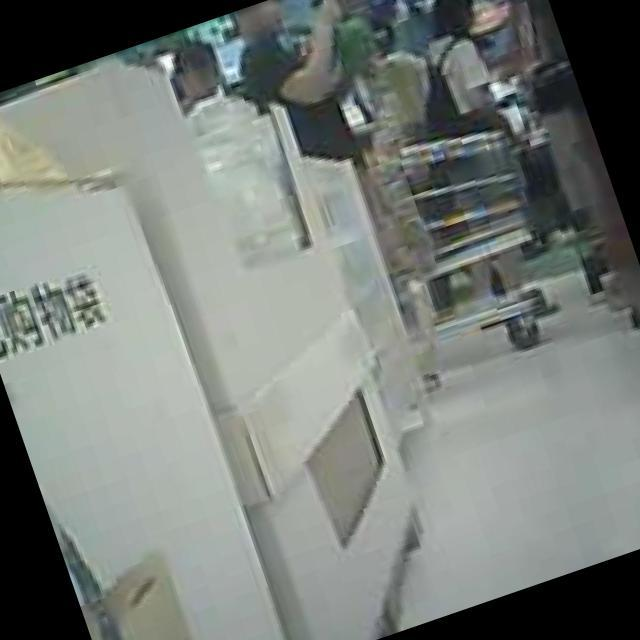person: (481, 0, 640, 346), (220, 0, 383, 175), (378, 0, 514, 131), (162, 36, 228, 110)
